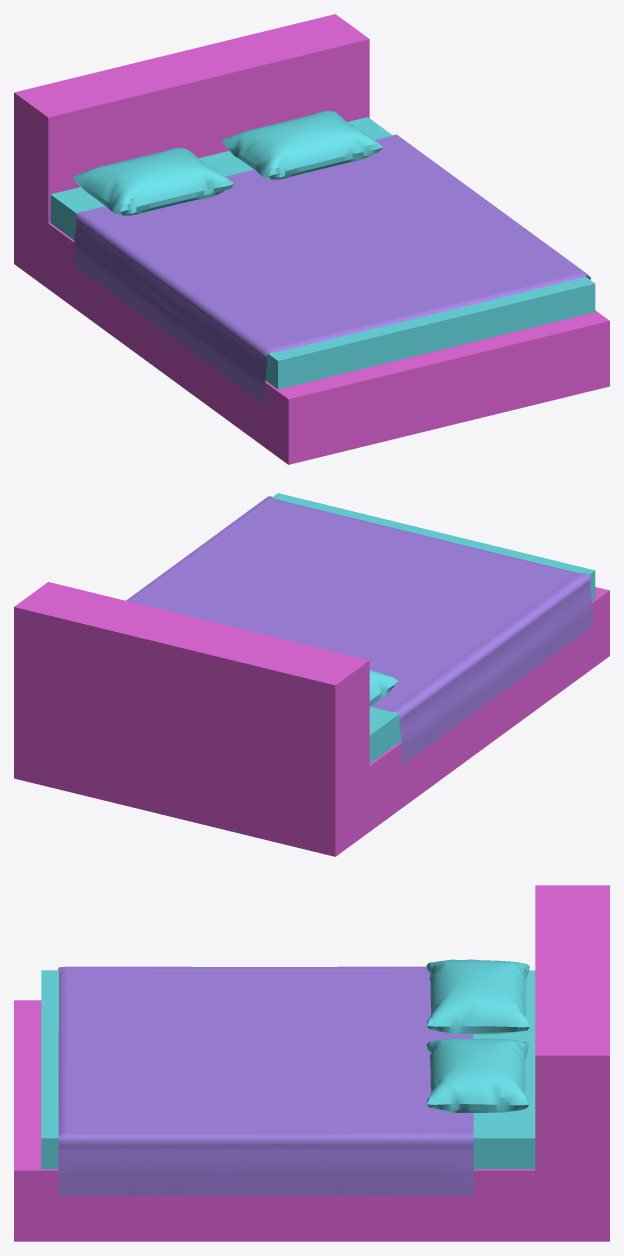
File: bed.fbx
3 views of the same model, one above another, from view 1: azimuth 30°, elevation 25°; view 2: azimuth 150°, elevation 25°; view 3: azimuth 270°, elevation 25° (orthographic). The views are drawn at different scales.
Visible parts, largest first — view 1: Frame, Plane, Cube, Plane.001, Plane.002; view 2: Frame, Plane, Cube, Plane.002; view 3: Plane, Frame, Cube, Plane.002, Plane.001.
Boxes of the visible parts, x1,y1,x2,y2 form: Frame: (14, 14, 609, 464); Plane: (74, 134, 590, 405); Cube: (50, 117, 595, 389); Plane.001: (221, 110, 383, 180); Plane.002: (73, 148, 234, 215); Frame: (14, 582, 609, 856); Plane: (126, 496, 592, 765); Cube: (272, 493, 595, 763); Plane.002: (369, 669, 397, 706); Plane: (58, 966, 473, 1196); Frame: (14, 885, 609, 1241); Cube: (41, 970, 535, 1169); Plane.002: (426, 959, 529, 1034); Plane.001: (426, 1038, 529, 1112).
Size of the model in its own units: 400 by 199 by 576.
